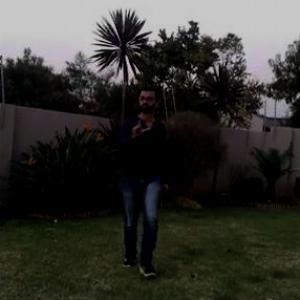land_hand: (124, 109, 154, 147)
